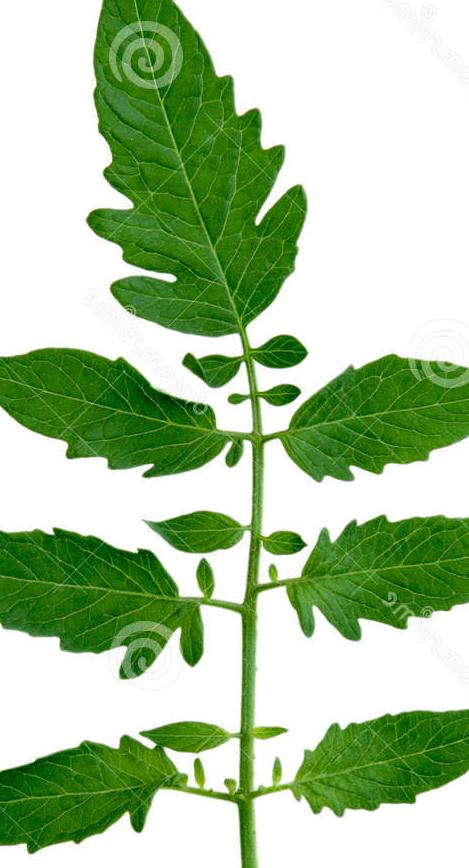Tomato leaf: (72, 0, 315, 354), (0, 343, 251, 502), (249, 666, 469, 843), (0, 500, 183, 690), (243, 498, 469, 651), (0, 715, 198, 868), (281, 330, 469, 487)
